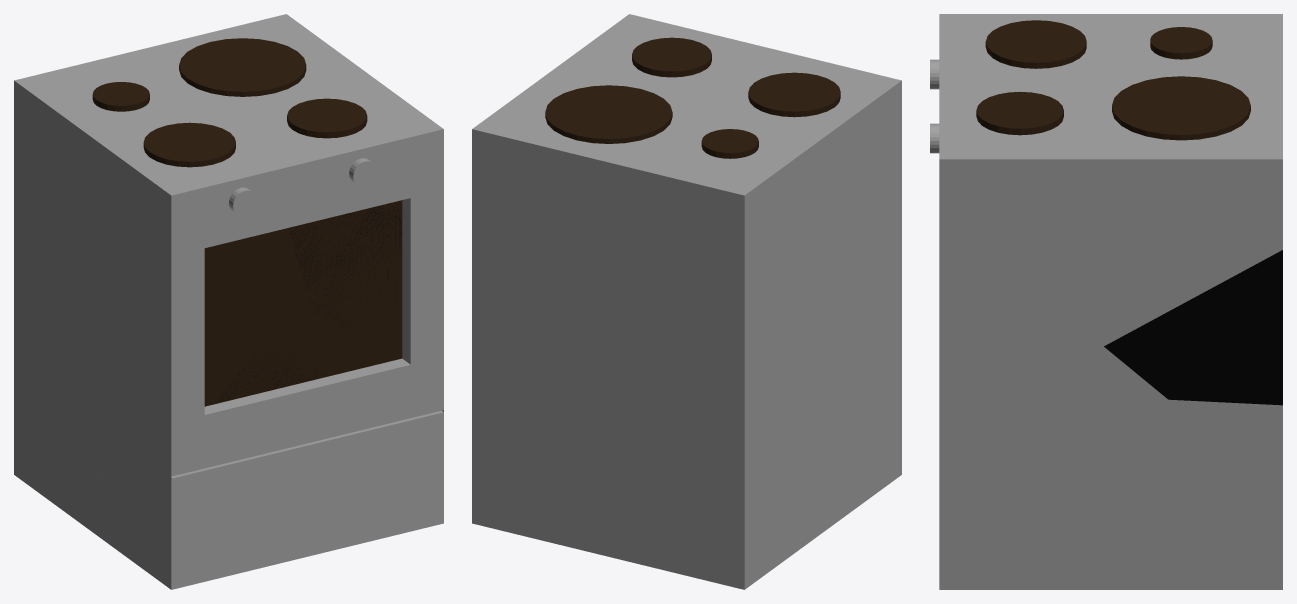
File: cooker.FBX
The picture shows the model from 3 angles, left to right: view 1: azimuth 30°, elevation 25°; view 2: azimuth 150°, elevation 25°; view 3: azimuth 270°, elevation 25°; orthographic projection. The views are drawn at different scales.
Visible parts, largest first — view 1: piano_cottura_Scene_Part_010, piano_cottura_Scene_Part_003, piano_cottura_Scene_Part_005, piano_cottura_Scene_Part_019, piano_cottura_Scene_Part_017, piano_cottura_Scene_Part_013, piano_cottura_Scene_Part_011, piano_cottura_Scene_Part_014, piano_cottura_Scene_Part_007, piano_cottura_Scene_Part_004, piano_cottura_Scene_Part_012, piano_cottura_Scene_Part_006; view 2: piano_cottura_Scene_Part_013, piano_cottura_Scene_Part_005, piano_cottura_Scene_Part_006, piano_cottura_Scene_Part_010, piano_cottura_Scene_Part_001, piano_cottura_Scene_Part_014, piano_cottura_Scene_Part_004, piano_cottura_Scene_Part_009, piano_cottura_Scene_Part_016, piano_cottura_Scene_Part_020, piano_cottura_Scene_Part_012, piano_cottura_Scene_Part_018 (+2 smaller); view 3: piano_cottura_Scene_Part_014, piano_cottura_Scene_Part_011, piano_cottura_Scene_Part_003, piano_cottura_Scene_Part_015, piano_cottura_Scene_Part_018, piano_cottura_Scene_Part_016, piano_cottura_Scene_Part_008, piano_cottura_Scene_Part_005, piano_cottura_Scene_Part_020, piano_cottura_Scene_Part_017, piano_cottura_Scene_Part_002, piano_cottura_Scene_Part_010 (+3 smaller).
Boxes of the visible parts, left/top/right/bottom form: piano_cottura_Scene_Part_010: left=96, top=133, right=305, bottom=478; piano_cottura_Scene_Part_003: left=247, top=106, right=443, bottom=295; piano_cottura_Scene_Part_005: left=14, top=58, right=243, bottom=275; piano_cottura_Scene_Part_019: left=105, top=294, right=330, bottom=572; piano_cottura_Scene_Part_017: left=273, top=385, right=443, bottom=540; piano_cottura_Scene_Part_013: left=14, top=227, right=105, bottom=475; piano_cottura_Scene_Part_011: left=309, top=246, right=443, bottom=391; piano_cottura_Scene_Part_014: left=199, top=14, right=411, bottom=132; piano_cottura_Scene_Part_007: left=174, top=463, right=371, bottom=586; piano_cottura_Scene_Part_004: left=14, top=434, right=182, bottom=589; piano_cottura_Scene_Part_012: left=74, top=263, right=154, bottom=444; piano_cottura_Scene_Part_006: left=107, top=38, right=248, bottom=135; piano_cottura_Scene_Part_013: left=608, top=304, right=836, bottom=548; piano_cottura_Scene_Part_005: left=652, top=82, right=851, bottom=341; piano_cottura_Scene_Part_006: left=572, top=83, right=741, bottom=335; piano_cottura_Scene_Part_010: left=740, top=55, right=901, bottom=363; piano_cottura_Scene_Part_001: left=472, top=440, right=647, bottom=565; piano_cottura_Scene_Part_014: left=472, top=37, right=734, bottom=146; piano_cottura_Scene_Part_004: left=642, top=456, right=901, bottom=589; piano_cottura_Scene_Part_009: left=499, top=277, right=626, bottom=444; piano_cottura_Scene_Part_016: left=472, top=144, right=597, bottom=285; piano_cottura_Scene_Part_020: left=472, top=354, right=590, bottom=473; piano_cottura_Scene_Part_012: left=804, top=258, right=884, bottom=420; piano_cottura_Scene_Part_018: left=472, top=212, right=542, bottom=360; piano_cottura_Scene_Part_014: left=1008, top=79, right=1282, bottom=273; piano_cottura_Scene_Part_011: left=939, top=262, right=1096, bottom=445; piano_cottura_Scene_Part_003: left=930, top=69, right=1058, bottom=286; piano_cottura_Scene_Part_015: left=977, top=398, right=1127, bottom=589; piano_cottura_Scene_Part_018: left=1104, top=250, right=1282, bottom=405; piano_cottura_Scene_Part_016: left=1077, top=106, right=1282, bottom=346; piano_cottura_Scene_Part_008: left=1107, top=442, right=1258, bottom=589; piano_cottura_Scene_Part_005: left=1034, top=14, right=1282, bottom=75; piano_cottura_Scene_Part_020: left=1156, top=399, right=1282, bottom=546; piano_cottura_Scene_Part_017: left=939, top=443, right=1032, bottom=589; piano_cottura_Scene_Part_002: left=1053, top=343, right=1167, bottom=467; piano_cottura_Scene_Part_010: left=930, top=14, right=1048, bottom=89.
Size of the model in its own units: 0.6 by 0.8422 by 0.616.
